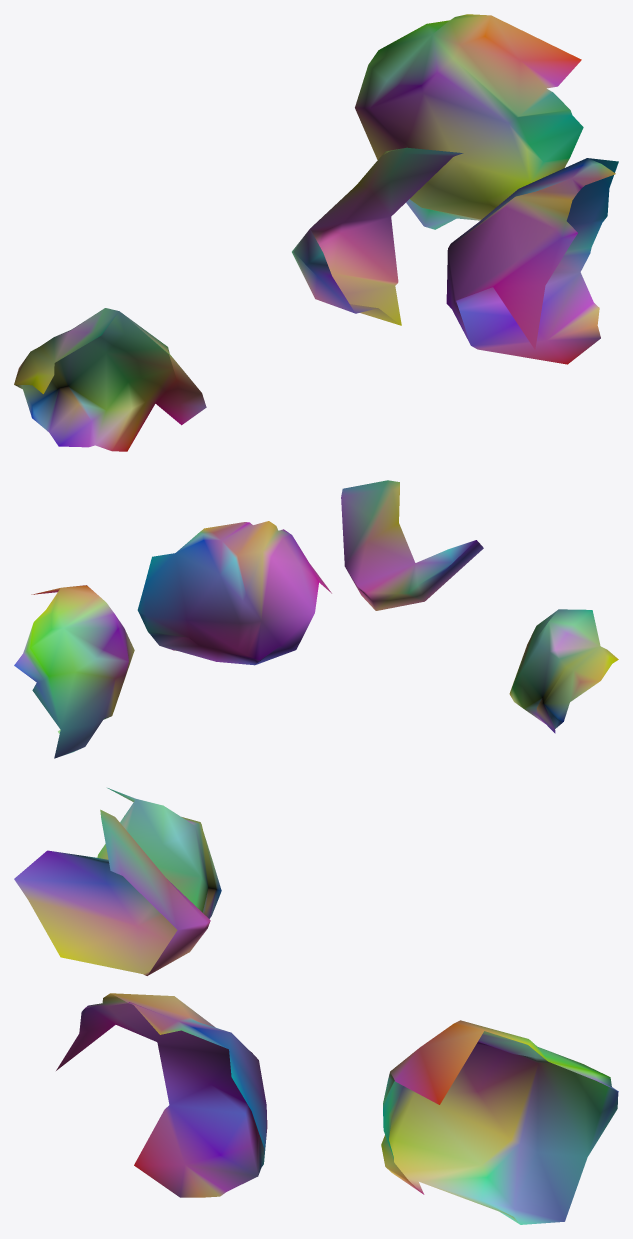
3 views of the same model, one above another, from view 1: azimuth 30°, elevation 25°; view 2: azimuth 150°, elevation 25°; view 3: azimuth 270°, elevation 25° (orthographic). The views are drawn at different scales.
Parts seen in each view (by area): view 1: G:\FFXIV-MapTools\exports\r2f1\bg\ex1\01_roc_r2\fld\r2f1\bgp; view 2: G:\FFXIV-MapTools\exports\r2f1\bg\ex1\01_roc_r2\fld\r2f1\bgp; view 3: G:\FFXIV-MapTools\exports\r2f1\bg\ex1\01_roc_r2\fld\r2f1\bgp.
Part boxes in pixels (<box>): G:\FFXIV-MapTools\exports\r2f1\bg\ex1\01_roc_r2\fld\r2f1\bgp: <box>14,14,618,451</box>; G:\FFXIV-MapTools\exports\r2f1\bg\ex1\01_roc_r2\fld\r2f1\bgp: <box>14,480,618,758</box>; G:\FFXIV-MapTools\exports\r2f1\bg\ex1\01_roc_r2\fld\r2f1\bgp: <box>14,788,618,1224</box>.
Size of the model in its own units: 107 by 44.06 by 82.82.
